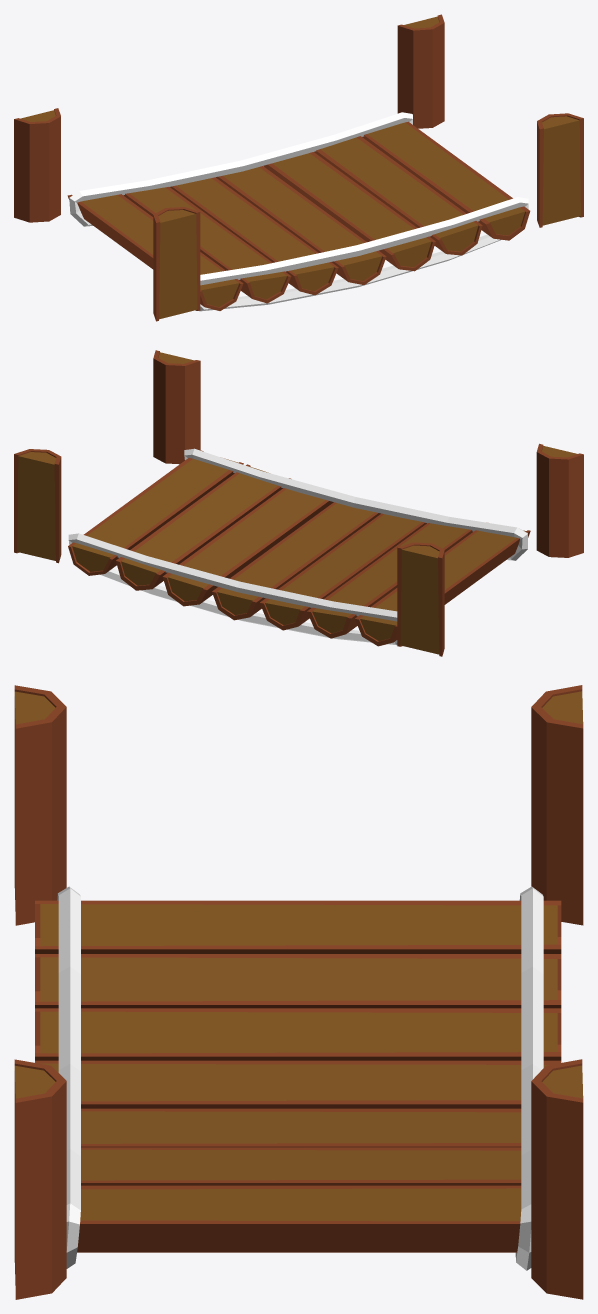
File: Brigdge.fbx
3 renders of one model, top to bottom at view 1: azimuth 30°, elevation 25°; view 2: azimuth 150°, elevation 25°; view 3: azimuth 270°, elevation 25°, orthographic. The views are drawn at different scales.
Visible parts, largest first — view 1: Torus.006; view 2: Torus.006; view 3: Torus.006.
Boxes of the visible parts, x1,y1,x2,y2 form: Torus.006: (14, 14, 583, 321); Torus.006: (14, 350, 583, 656); Torus.006: (14, 685, 583, 1299).
Size of the model in its own units: 951 by 266 by 547.
